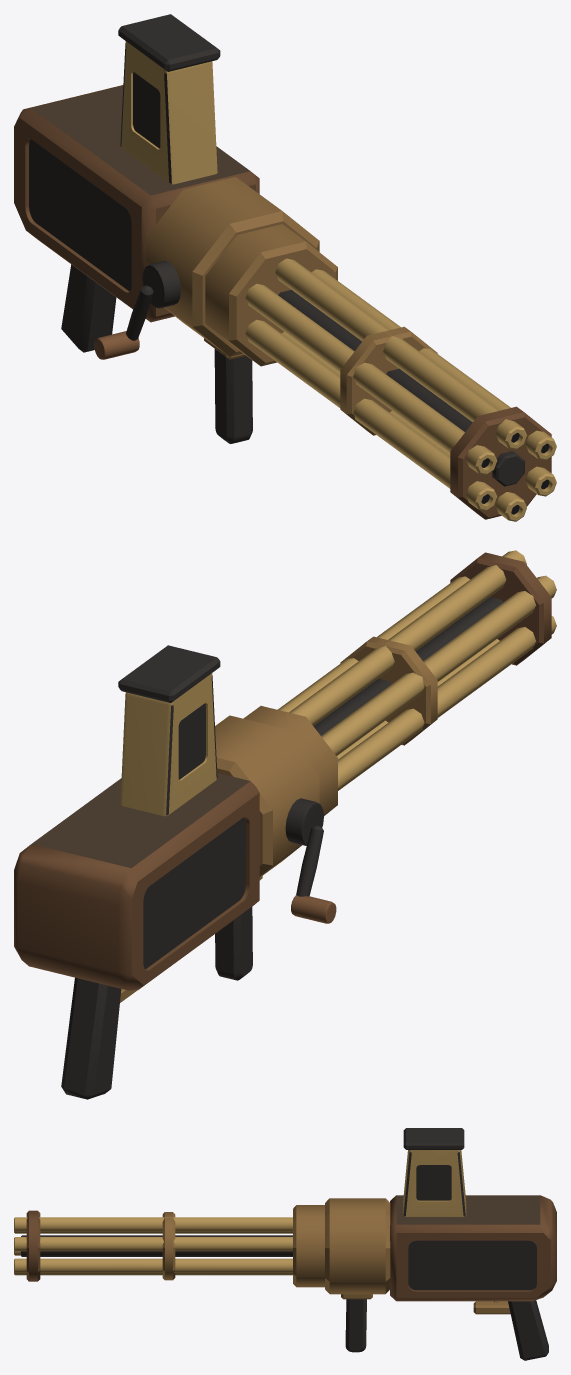
The model's file is w_minigun@minigun_gatling.glb.
3 renders of one model, top to bottom at view 1: azimuth 30°, elevation 25°; view 2: azimuth 150°, elevation 25°; view 3: azimuth 270°, elevation 25°, orthographic. The views are drawn at different scales.
Visible parts, largest first — view 1: barrels_wzB__steel__pb59457, barrels_wzB__frame__p8c6a3e, housing_wzB__frame__p8c6a3e, body_wzA__body__p6b4a30, hopper_wzB__brass__pb59457, body_wzN__dark__p2f2c2a, body_wzB__deck__p4a3a2c, hopper_wzN__dark__p2f2c2a, barrels_wzA__body__p6b4a30, barrels_wzB__dark__p2f2c2a, fore_wzB__dark__p2f2c2a, grip_wzB__dark__p2f2c2a (+2 smaller); view 2: body_wzA__body__p6b4a30, barrels_wzB__steel__pb59457, hopper_wzB__brass__pb59457, body_wzN__dark__p2f2c2a, housing_wzB__frame__p8c6a3e, body_wzB__deck__p4a3a2c, barrels_wzB__frame__p8c6a3e, hopper_wzN__dark__p2f2c2a, grip_wzB__dark__p2f2c2a, barrels_wzA__body__p6b4a30, barrels_wzB__dark__p2f2c2a, crank_wzB__dark__p2f2c2a (+2 smaller); view 3: barrels_wzB__steel__pb59457, body_wzA__body__p6b4a30, body_wzN__dark__p2f2c2a, housing_wzB__frame__p8c6a3e, barrels_wzB__frame__p8c6a3e, hopper_wzN__dark__p2f2c2a, body_wzB__deck__p4a3a2c, hopper_wzB__brass__pb59457, barrels_wzB__dark__p2f2c2a, grip_wzB__dark__p2f2c2a, fore_wzB__dark__p2f2c2a, barrels_wzA__body__p6b4a30 (+1 smaller).
Part boxes in pixels (<box>): barrels_wzB__steel__pb59457: <box>245,258,556,521</box>; barrels_wzB__frame__p8c6a3e: <box>205,224,437,435</box>; housing_wzB__frame__p8c6a3e: <box>146,177,319,356</box>; body_wzA__body__p6b4a30: <box>14,85,259,322</box>; hopper_wzB__brass__pb59457: <box>121,41,217,184</box>; body_wzN__dark__p2f2c2a: <box>29,139,131,291</box>; body_wzB__deck__p4a3a2c: <box>32,86,250,195</box>; hopper_wzN__dark__p2f2c2a: <box>118,14,220,183</box>; barrels_wzA__body__p6b4a30: <box>450,406,551,519</box>; barrels_wzB__dark__p2f2c2a: <box>278,289,524,486</box>; fore_wzB__dark__p2f2c2a: <box>214,349,252,443</box>; grip_wzB__dark__p2f2c2a: <box>61,264,116,352</box>; body_wzA__body__p6b4a30: <box>14,781,259,990</box>; barrels_wzB__steel__pb59457: <box>277,550,556,790</box>; hopper_wzB__brass__pb59457: <box>120,673,217,816</box>; body_wzN__dark__p2f2c2a: <box>143,817,245,969</box>; housing_wzB__frame__p8c6a3e: <box>215,715,319,877</box>; body_wzB__deck__p4a3a2c: <box>32,773,249,868</box>; barrels_wzB__frame__p8c6a3e: <box>243,636,437,815</box>; hopper_wzN__dark__p2f2c2a: <box>118,645,220,815</box>; grip_wzB__dark__p2f2c2a: <box>61,977,121,1099</box>; barrels_wzA__body__p6b4a30: <box>450,552,551,665</box>; barrels_wzB__dark__p2f2c2a: <box>313,597,503,735</box>; crank_wzB__dark__p2f2c2a: <box>285,798,323,896</box>; barrels_wzB__steel__pb59457: <box>14,1217,292,1275</box>; body_wzA__body__p6b4a30: <box>390,1195,556,1301</box>; body_wzN__dark__p2f2c2a: <box>408,1240,536,1290</box>; housing_wzB__frame__p8c6a3e: <box>325,1198,390,1294</box>; barrels_wzB__frame__p8c6a3e: <box>162,1205,324,1287</box>; hopper_wzN__dark__p2f2c2a: <box>403,1128,465,1216</box>; body_wzB__deck__p4a3a2c: <box>396,1195,540,1224</box>; hopper_wzB__brass__pb59457: <box>403,1150,466,1216</box>; barrels_wzB__dark__p2f2c2a: <box>21,1235,292,1256</box>; grip_wzB__dark__p2f2c2a: <box>508,1300,548,1360</box>; fore_wzB__dark__p2f2c2a: <box>345,1299,366,1352</box>; barrels_wzA__body__p6b4a30: <box>26,1210,40,1281</box>.
Bounding box in the file's own units: 0.2196 × 0.4293 × 0.95.
